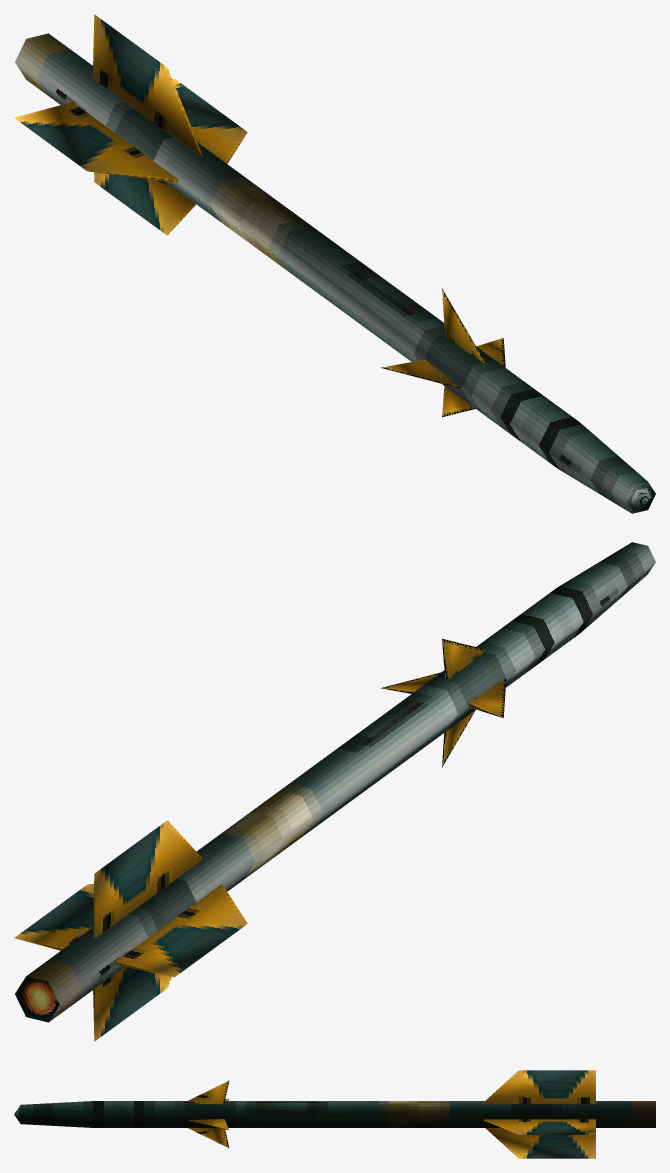
Rendered from mis09.glb.
3 views of the same model, one above another, from view 1: azimuth 30°, elevation 25°; view 2: azimuth 150°, elevation 25°; view 3: azimuth 270°, elevation 25° (orthographic). The views are drawn at different scales.
Parts seen in each view (by area): view 1: mis09; view 2: mis09; view 3: mis09.
Part boxes in pixels (x1,y1,x2,y2): mis09: (14, 14, 655, 513); mis09: (14, 542, 655, 1041); mis09: (14, 1070, 655, 1158).
Bounding box in the file's own units: 1.73 × 1.73 × 11.35.
Materials: 1 (1 with a texture image).
